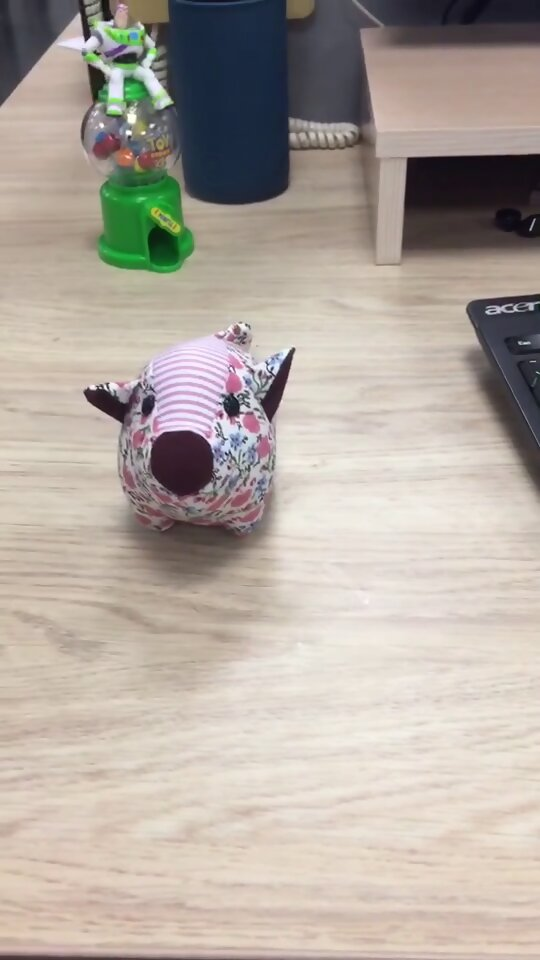pig: (80, 318, 296, 542)
